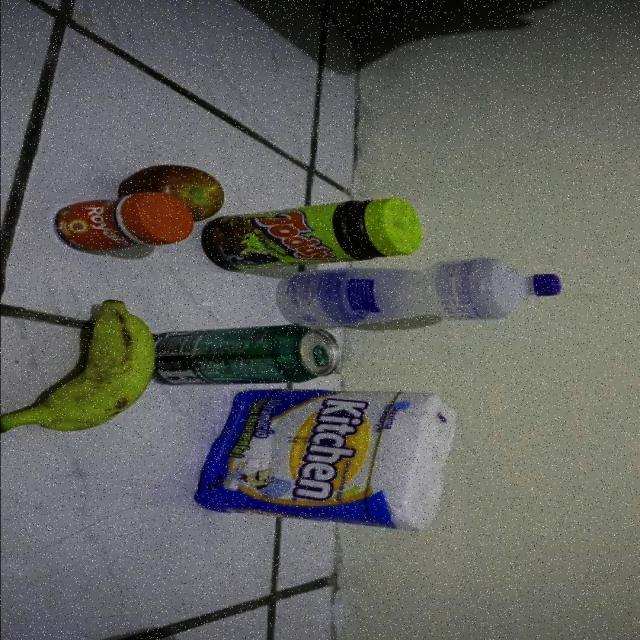AlcoholBottle: (277, 258, 562, 327)
Apple: (118, 166, 225, 223)
Banana: (0, 301, 153, 441)
BeerCan: (152, 325, 339, 384)
ChocolatePowder: (201, 198, 422, 272)
Napkin: (194, 390, 455, 531)
Yeast: (54, 193, 193, 254)
